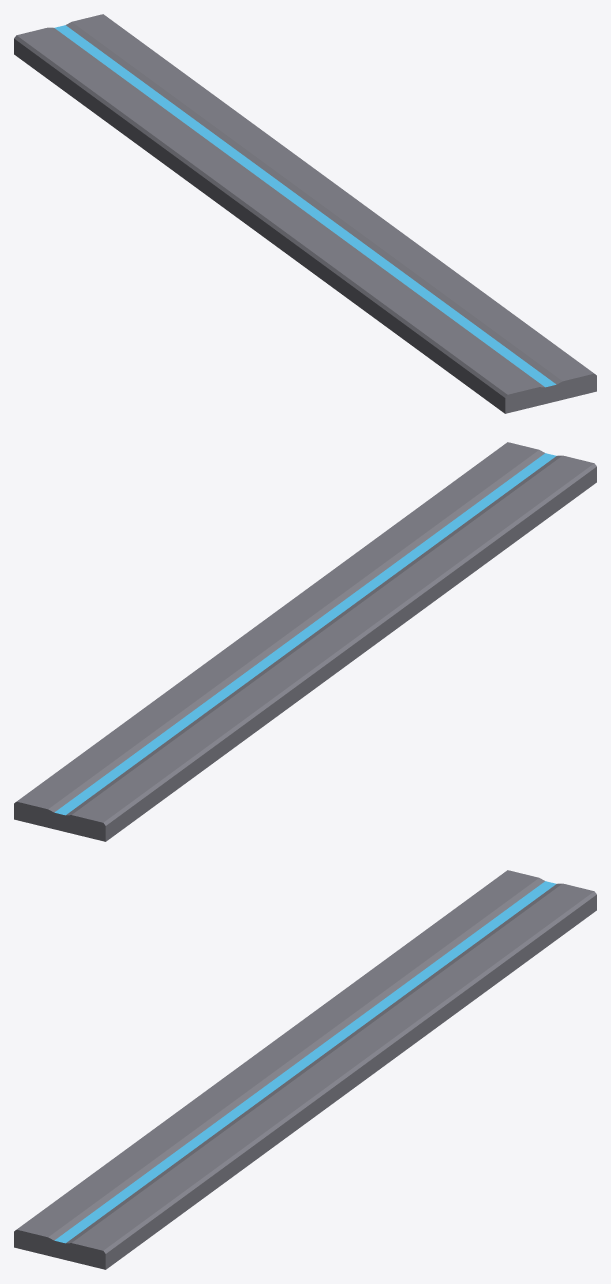
Rendered from Guide_Teal.fbx.
3 renders of one model, top to bottom at view 1: azimuth 30°, elevation 25°; view 2: azimuth 150°, elevation 25°; view 3: azimuth 330°, elevation 25°, orthographic.
Parts seen in each view (by area): view 1: Guide_Teal; view 2: Guide_Teal; view 3: Guide_Teal.
Part boxes in pixels (box(x1,y1,x2,y2)): Guide_Teal: box(14, 14, 596, 413); Guide_Teal: box(14, 442, 596, 841); Guide_Teal: box(14, 870, 596, 1269).
Bounding box in the file's own units: 75.54 × 14.57 × 700.
